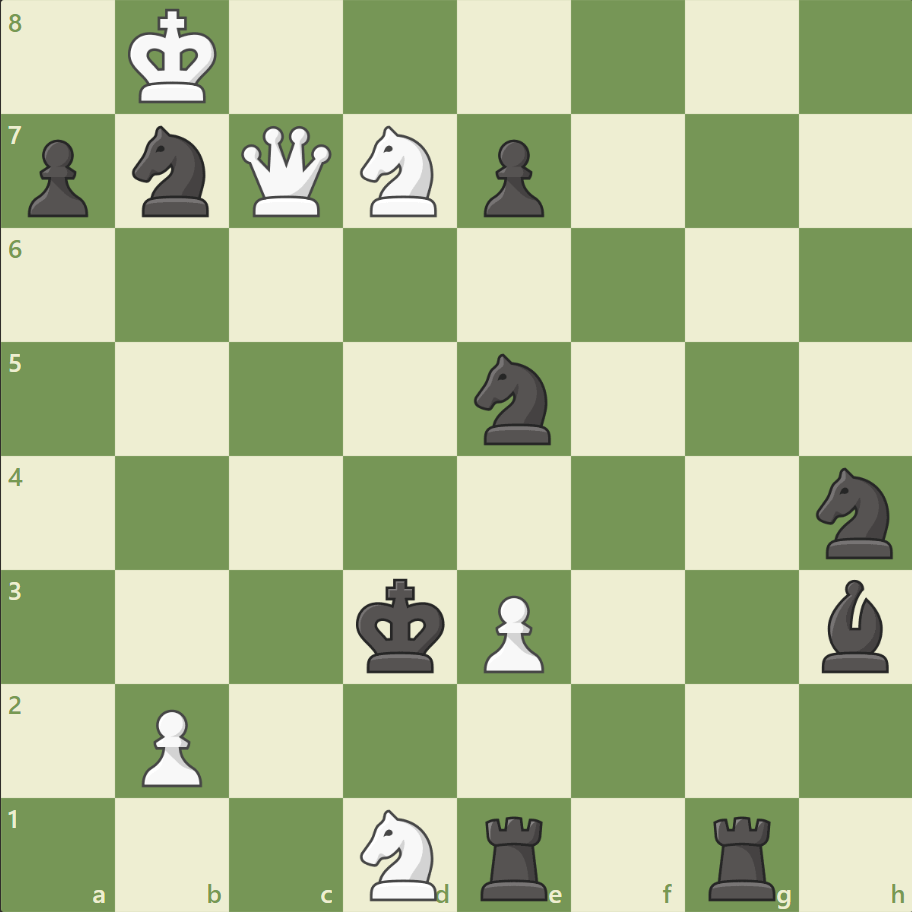K: (124, 4, 224, 112)
N: (351, 121, 449, 223), (351, 802, 449, 904)
P: (474, 586, 549, 677), (133, 700, 208, 791)
Q: (237, 122, 336, 222)
b: (812, 574, 896, 676)
k: (351, 571, 451, 679)
n: (124, 121, 222, 223), (806, 461, 903, 564), (465, 348, 562, 450)
p: (20, 132, 95, 223), (474, 132, 549, 223)
r: (473, 806, 556, 904), (700, 806, 783, 904)
